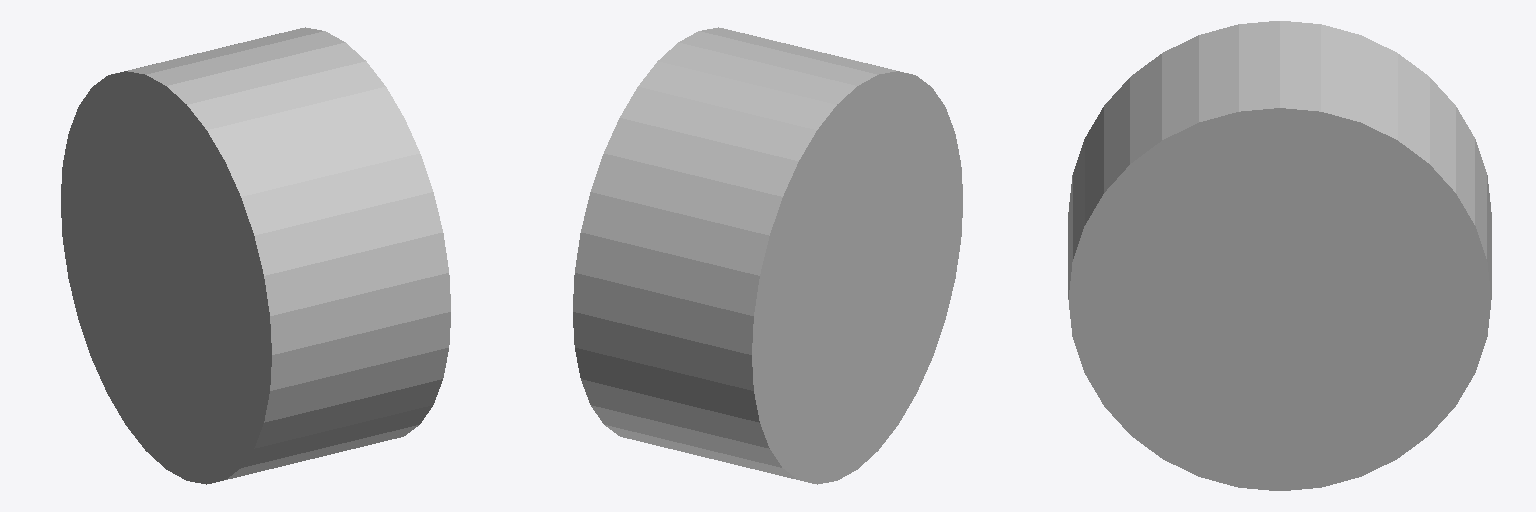
File: frontright.obj
3 views of the same model, side by side, from view 1: azimuth 30°, elevation 25°; view 2: azimuth 150°, elevation 25°; view 3: azimuth 270°, elevation 25° (orthographic).
Size of the model in its own units: 0.1019 by 0.2083 by 0.2083.